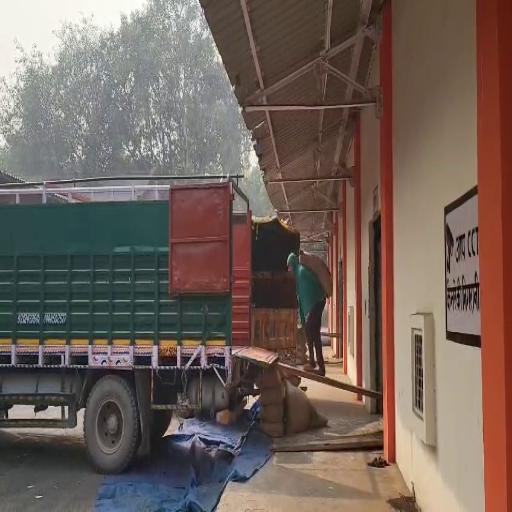bag: (299, 246, 334, 300)
